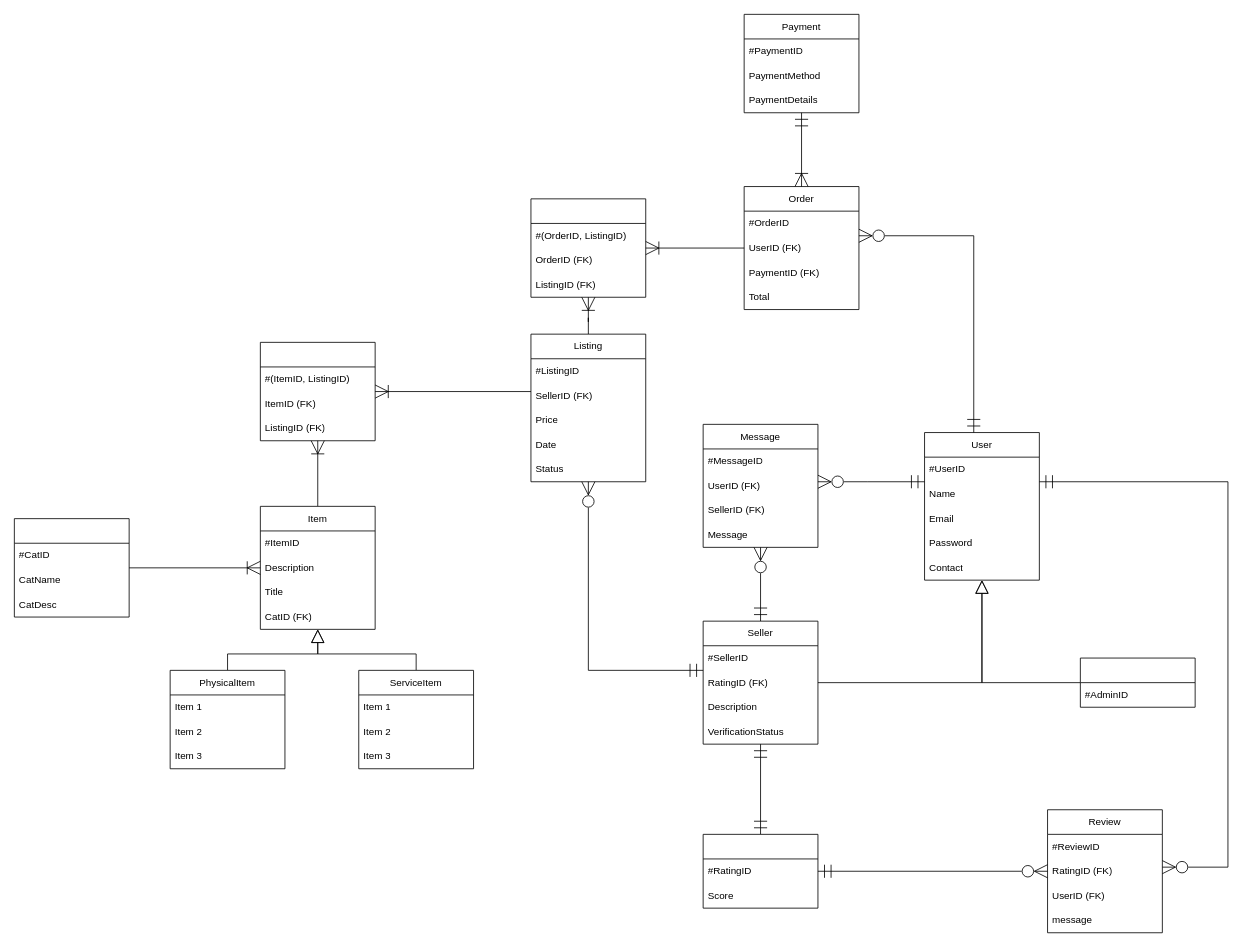
The diagram is 1256 pixels wide and 947 high, and some of its shapes have lost their labels. The box of each missing label's shape, as (x1, y1, x2, y2) in pixels:
Administrator: (1080, 657, 1195, 707)
Category: (14, 518, 129, 617)
ItemListing: (260, 342, 375, 441)
OrderListing: (530, 198, 646, 297)
SellerRating: (702, 834, 818, 908)
